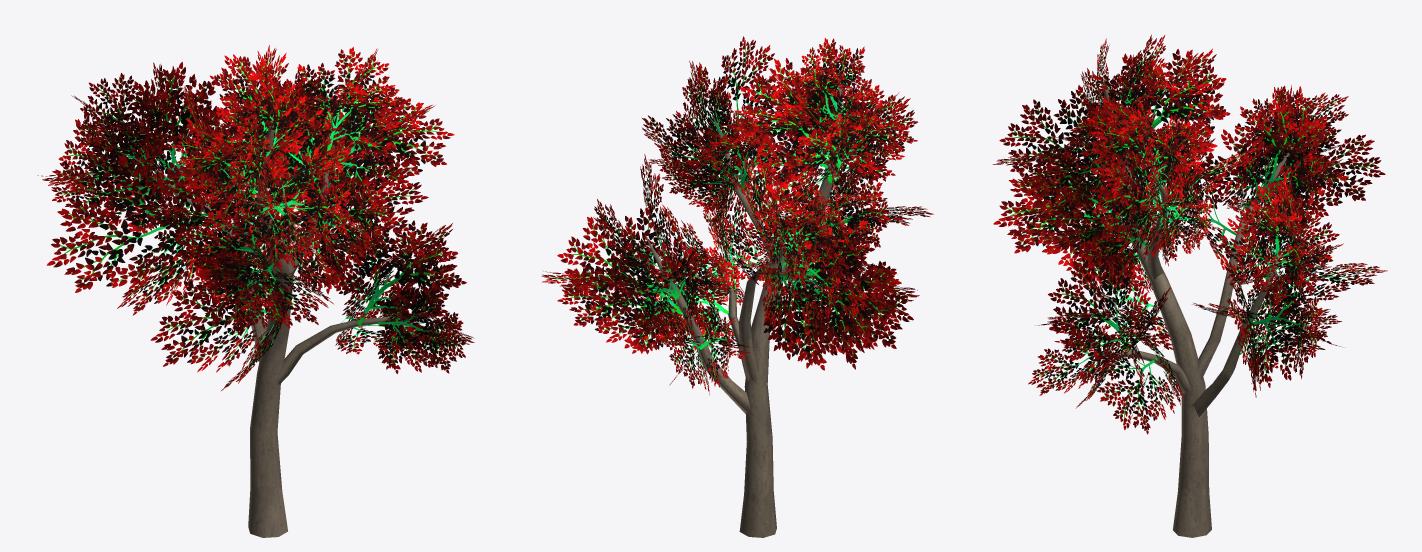
File: SM_Tree_02.fbx
3 views of the same model, side by side, from view 1: azimuth 30°, elevation 25°; view 2: azimuth 150°, elevation 25°; view 3: azimuth 270°, elevation 25° (orthographic). The views are drawn at different scales.
Parts seen in each view (by area): view 1: SM_Tree_02_LOD0; view 2: SM_Tree_02_LOD0; view 3: SM_Tree_02_LOD0.
Part boxes in pixels (box(x1,y1,x2,y2)): SM_Tree_02_LOD0: box(37, 45, 474, 537); SM_Tree_02_LOD0: box(541, 36, 933, 537); SM_Tree_02_LOD0: box(992, 34, 1387, 537).
Size of what is drawn, in the model's own units: 1010 by 1272 by 1002.
